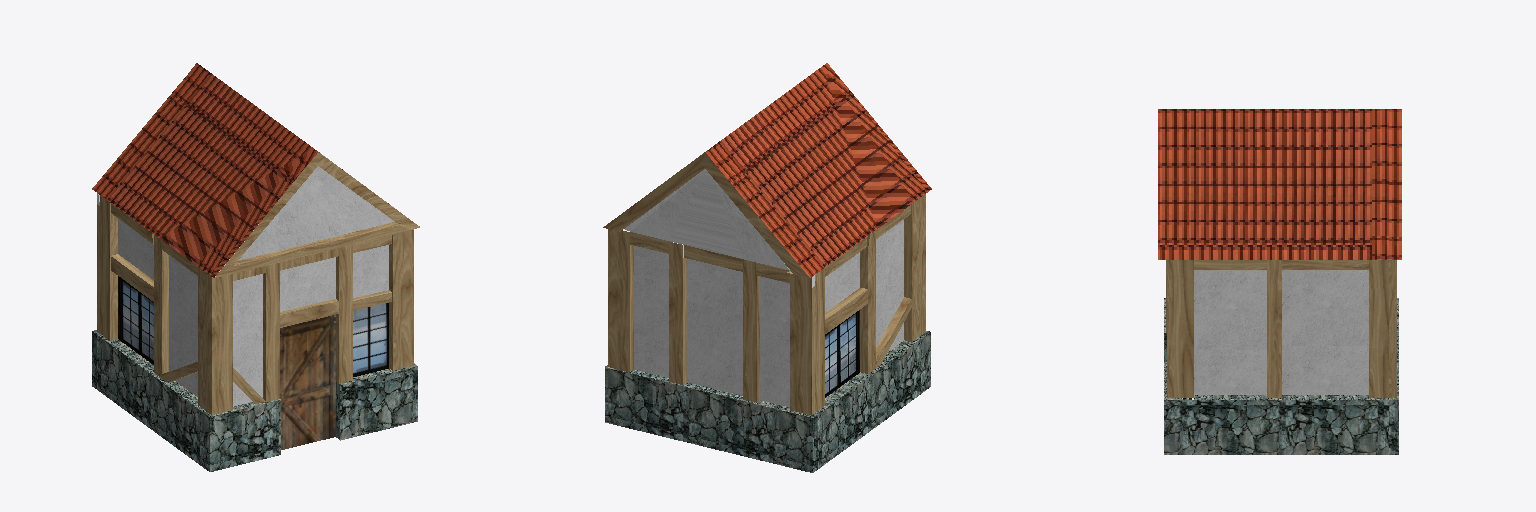
3 renders of one model, left to right at view 1: azimuth 30°, elevation 25°; view 2: azimuth 150°, elevation 25°; view 3: azimuth 270°, elevation 25°, orthographic.
Visible parts, largest first — view 1: Cube; view 2: Cube; view 3: Cube.
Part boxes in pixels (x1,y1,x2,y2): Cube: (92,63,419,471); Cube: (603,63,931,472); Cube: (1158,109,1401,454).
Size of the model in its own units: 11.17 by 15.16 by 11.3.
1 materials, 1 textured.